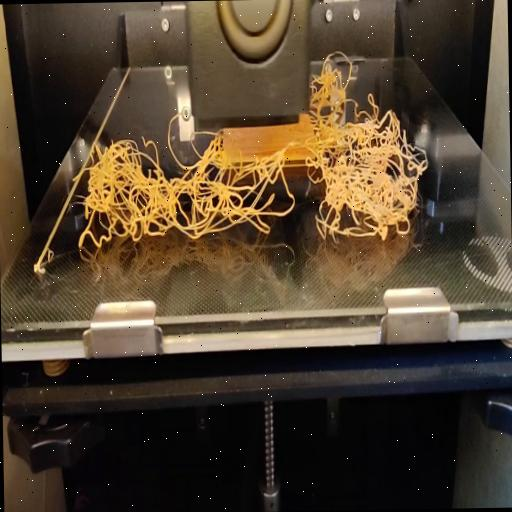spaghetti: (72, 112, 430, 260), (310, 44, 386, 118)
